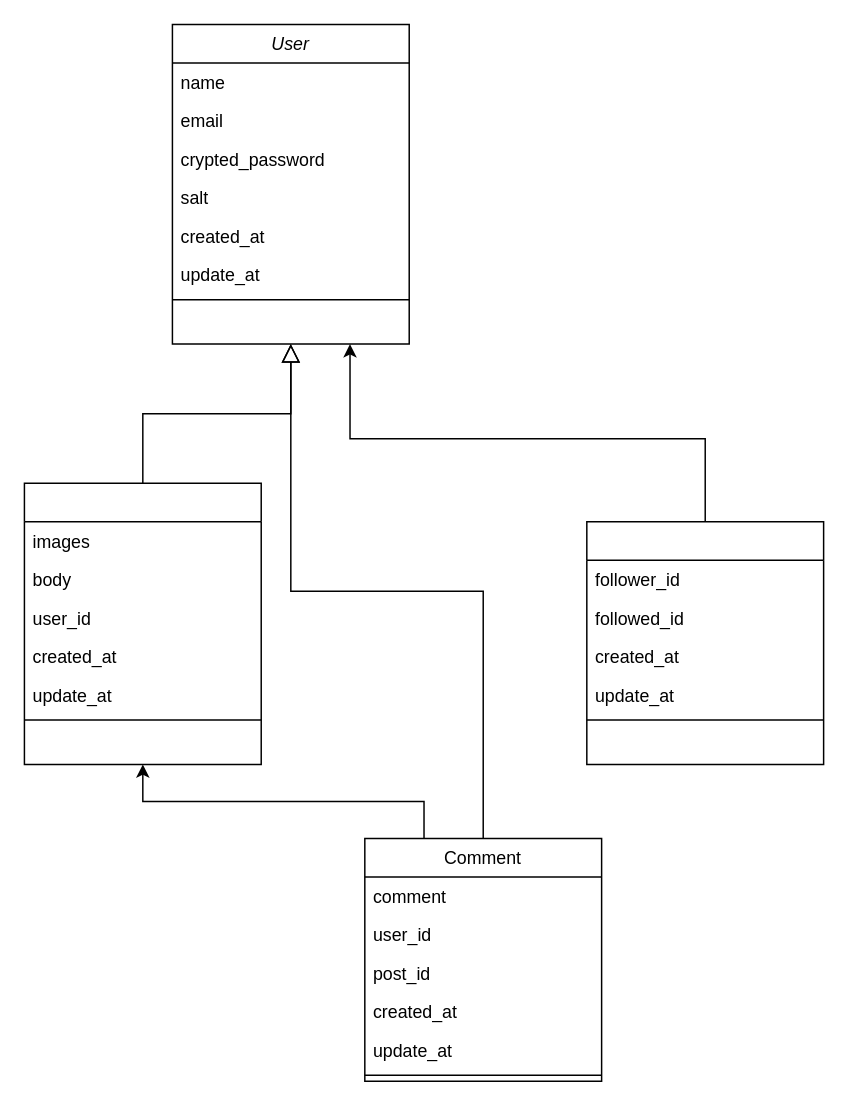
This 848x1106 diagram has some shape labels left out. Here are the shapes that lost their labels. From the top down, the box of each, then its label:
(23, 482, 261, 764): Post
(585, 520, 824, 764): Relationship
